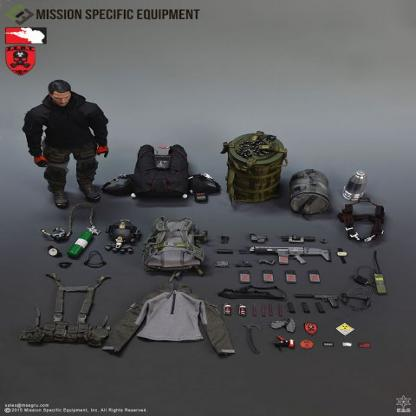Grenade: (238, 302, 248, 317), (223, 302, 232, 316)
Gun: (237, 245, 332, 267)
Pistol: (293, 292, 338, 309)
